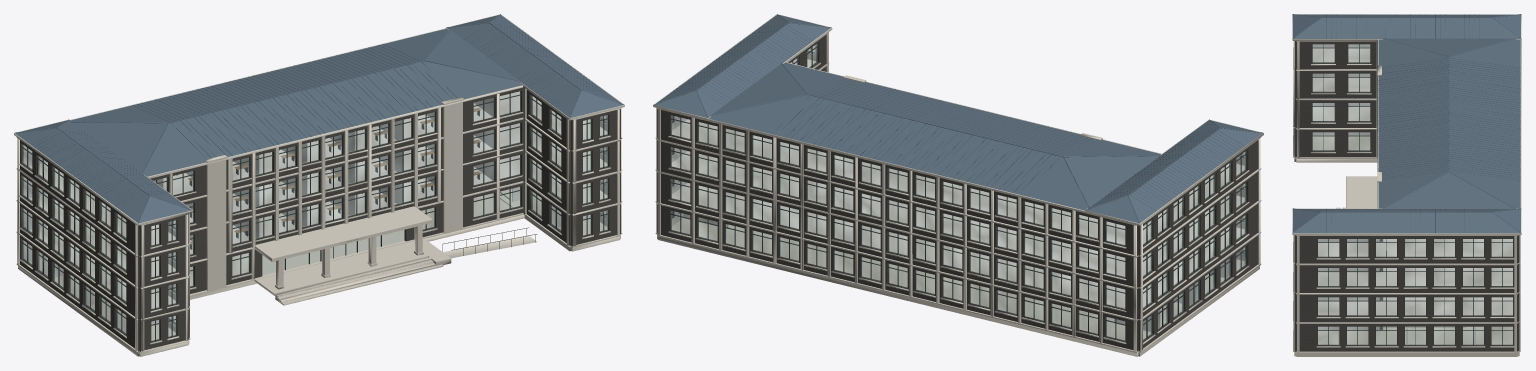
The model's file is academy-shell.glb.
3 renders of one model, left to right at view 1: azimuth 30°, elevation 25°; view 2: azimuth 150°, elevation 25°; view 3: azimuth 270°, elevation 25°, orthographic. The views are drawn at different scales.
Visible parts, largest first — view 1: Independent roof and drainage / Blue grey standing seam zinc, South teaching facade / Grey masonry, South teaching facade / Cut limestone trim, East west and north facades / Grey masonry, Main front glazing and frames / Clear architectural glass, Floors and foundations / Acoustic ceiling, South teaching facade / Pale limestone, South teaching facade / Dark bronze frames, East west and north facades / Cut limestone trim, Outer wing -1 glazing and frames / Clear architectural glass, East west and north facades / Dark bronze frames, Upper storey visible interior structure / Warm mineral plast (+13 smaller); view 2: Independent roof and drainage / Blue grey standing seam zinc, East west and north facades / Grey masonry, Rear facade glazing and frames / Clear architectural glass, East west and north facades / Cut limestone trim, Floors and foundations / Acoustic ceiling, East west and north facades / Dark bronze frames, Main floor 0, Outer wing -1 glazing and frames / Clear architectural glass, Independent roof and drainage / Cut limestone trim, Floors and foundations / Pale limestone, East west and north facades / Warm mineral plaster, Wing floor 0 (×2) (+1 smaller); view 3: Independent roof and drainage / Blue grey standing seam zinc, East west and north facades / Grey masonry, Outer wing 1 glazing and frames / Clear architectural glass, Floors and foundations / Acoustic ceiling, East west and north facades / Cut limestone trim, East west and north facades / Dark bronze frames, Inner wing -1 glazing and frames / Clear architectural glass, Wing floor 0 (×2), Independent roof and drainage / Cut limestone trim, South teaching facade / Cut limestone trim, East west and north facades / Warm mineral plaster, Floors and foundations / Pale limestone (+2 smaller).
Part boxes in pixels (x1,y1,x2,y2): Independent roof and drainage / Blue grey standing seam zinc: (15, 14, 624, 223); South teaching facade / Grey masonry: (139, 88, 620, 351); South teaching facade / Cut limestone trim: (139, 87, 620, 352); East west and north facades / Grey masonry: (20, 90, 620, 351); Main front glazing and frames / Clear architectural glass: (154, 91, 520, 286); Floors and foundations / Acoustic ceiling: (30, 91, 607, 308); South teaching facade / Pale limestone: (206, 102, 462, 305); South teaching facade / Dark bronze frames: (151, 91, 608, 341); East west and north facades / Cut limestone trim: (16, 88, 622, 352); Outer wing -1 glazing and frames / Clear architectural glass: (22, 144, 125, 333); East west and north facades / Dark bronze frames: (21, 94, 605, 334); Upper storey visible interior structure / Warm mineral plast: (153, 98, 493, 240); Independent roof and drainage / Blue grey standing seam zinc: (653, 14, 1262, 223); East west and north facades / Grey masonry: (657, 35, 1257, 351); Rear facade glazing and frames / Clear architectural glass: (671, 115, 1124, 340); East west and north facades / Cut limestone trim: (655, 32, 1261, 352); Floors and foundations / Acoustic ceiling: (672, 59, 1244, 308); East west and north facades / Dark bronze frames: (670, 42, 1247, 341); Main floor 0: (715, 226, 1114, 333); Outer wing -1 glazing and frames / Clear architectural glass: (1143, 151, 1245, 339); Independent roof and drainage / Cut limestone trim: (653, 14, 1263, 225); Floors and foundations / Pale limestone: (657, 236, 1259, 356); East west and north facades / Warm mineral plaster: (671, 45, 1245, 338); Wing floor 0 (×2): (672, 218, 1244, 339); Independent roof and drainage / Blue grey standing seam zinc: (1292, 14, 1521, 233); East west and north facades / Grey masonry: (1296, 41, 1519, 351); Outer wing 1 glazing and frames / Clear architectural glass: (1318, 239, 1512, 344); Floors and foundations / Acoustic ceiling: (1312, 48, 1512, 315); East west and north facades / Cut limestone trim: (1296, 41, 1520, 353); East west and north facades / Dark bronze frames: (1312, 44, 1513, 345); Inner wing -1 glazing and frames / Clear architectural glass: (1313, 44, 1369, 150); Wing floor 0 (×2): (1312, 136, 1512, 344); Independent roof and drainage / Cut limestone trim: (1292, 14, 1521, 235); South teaching facade / Cut limestone trim: (1293, 41, 1381, 351); East west and north facades / Warm mineral plaster: (1312, 44, 1379, 330); Floors and foundations / Pale limestone: (1294, 157, 1519, 356).
Bounding box in the file's own units: 60.93 × 17.37 × 26.93.
Materials: 13 (4 with a texture image).
